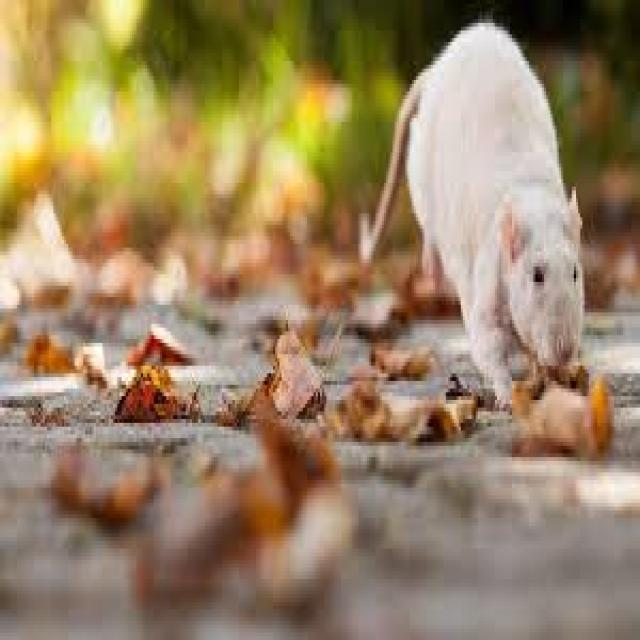Rat: (318, 0, 612, 437)
